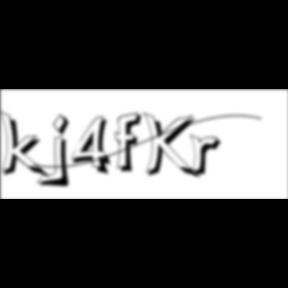4: (70, 115, 118, 179)
K: (144, 110, 202, 182)
f: (114, 111, 148, 175)
j: (50, 113, 78, 191)
k: (0, 108, 52, 181)
r: (190, 134, 228, 180)
